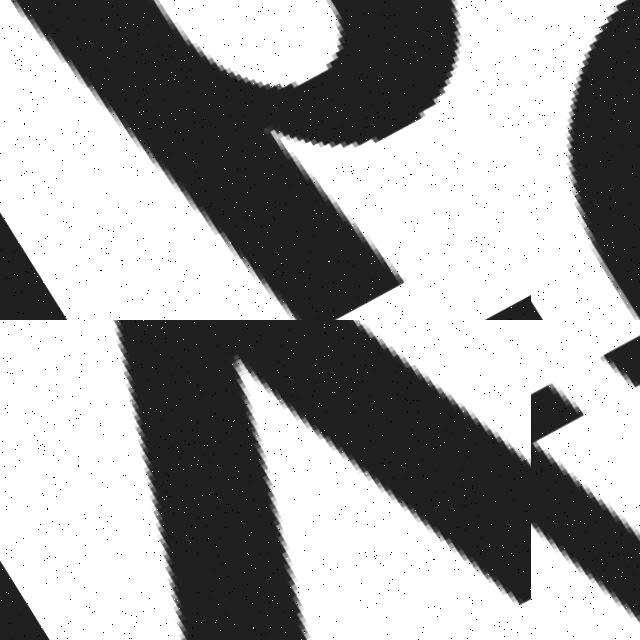B: (10, 0, 454, 320)
N: (531, 320, 640, 640)
O: (531, 0, 640, 320)
V: (0, 320, 531, 640)
